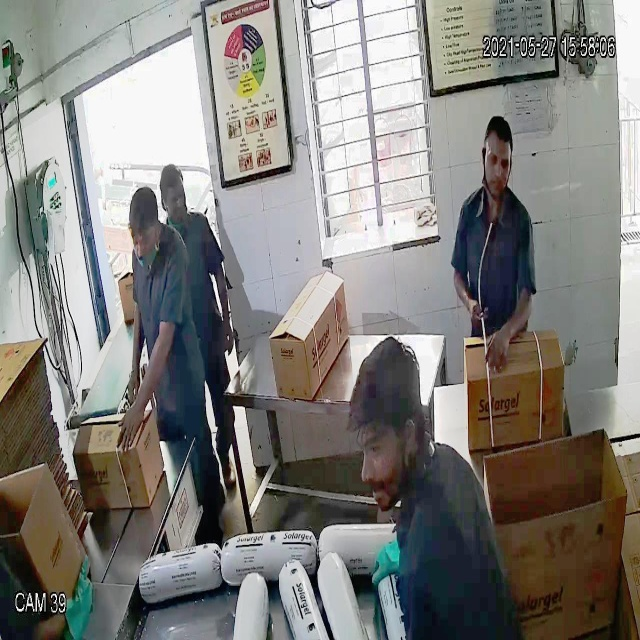Sin_gafas: (125, 222, 165, 256), (480, 148, 520, 180)
